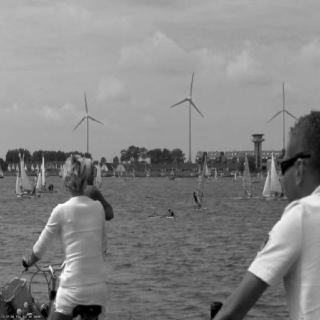other: (262, 194, 316, 314), (86, 182, 110, 210)
